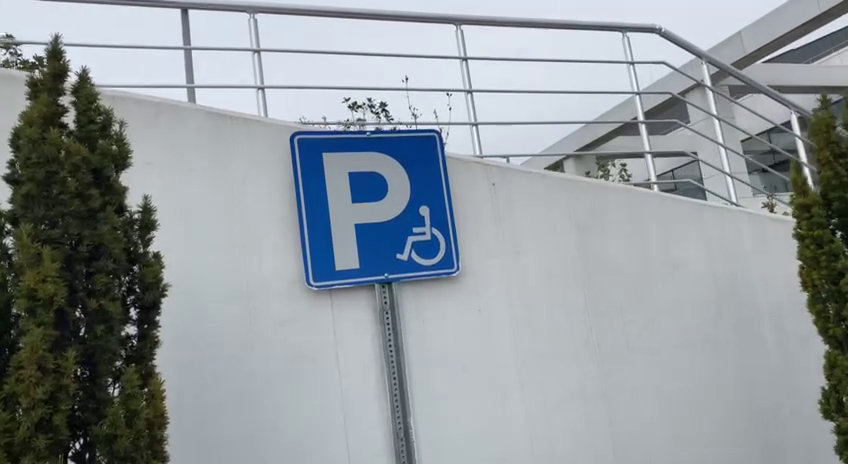parking: (285, 126, 461, 289)
